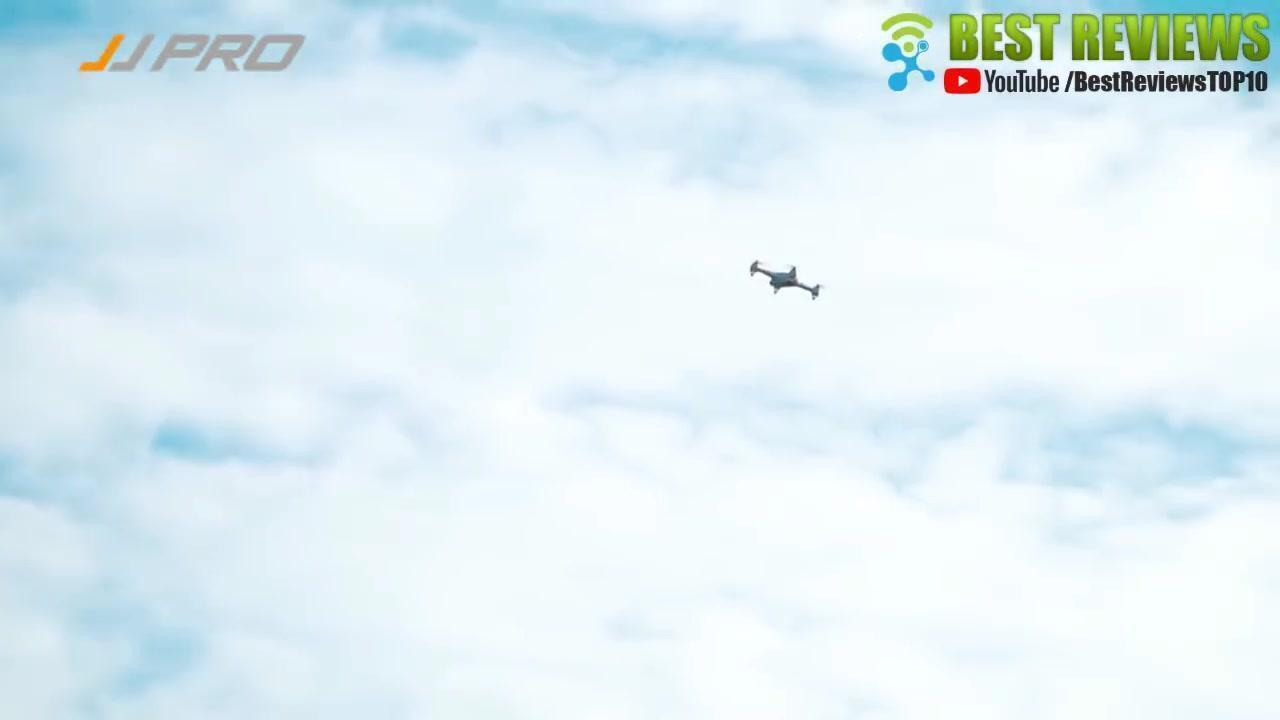UAV: (750, 261, 825, 302)
